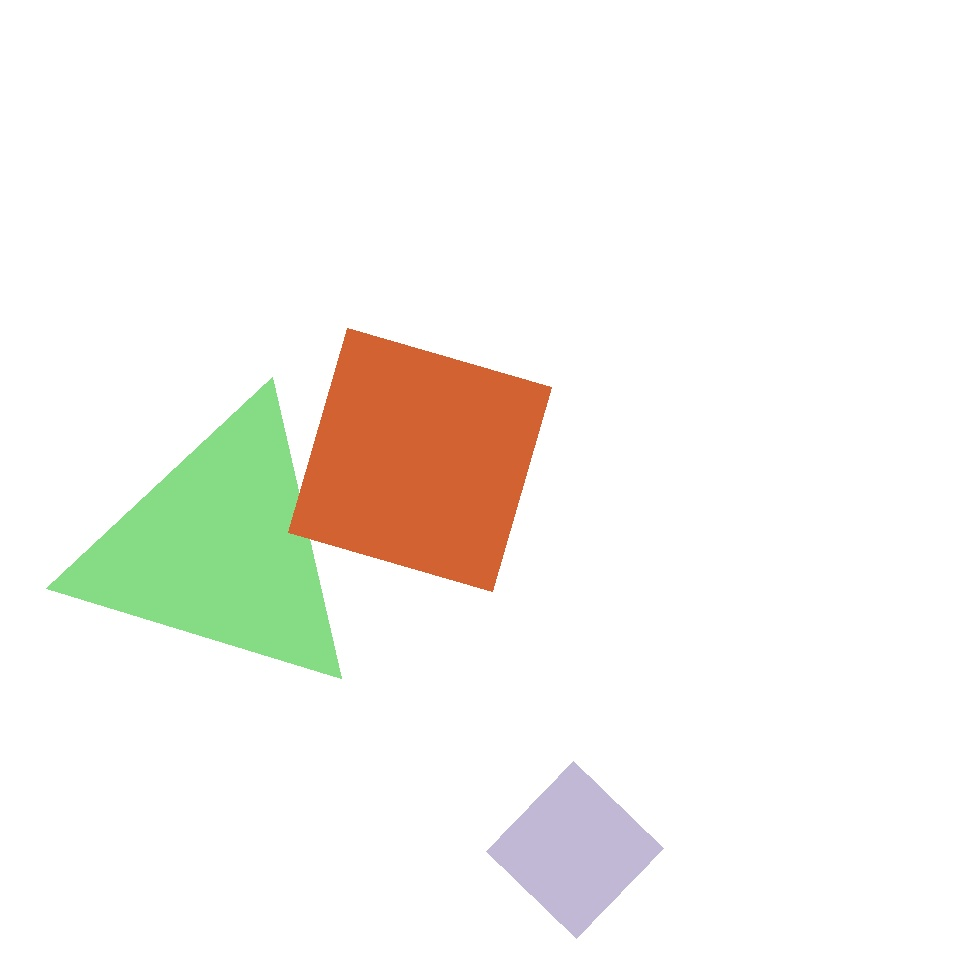circle: (72, 398, 368, 698)
square: (288, 328, 552, 592), (487, 762, 664, 938), (23, 760, 94, 830)
triangle: (430, 359, 756, 684)
